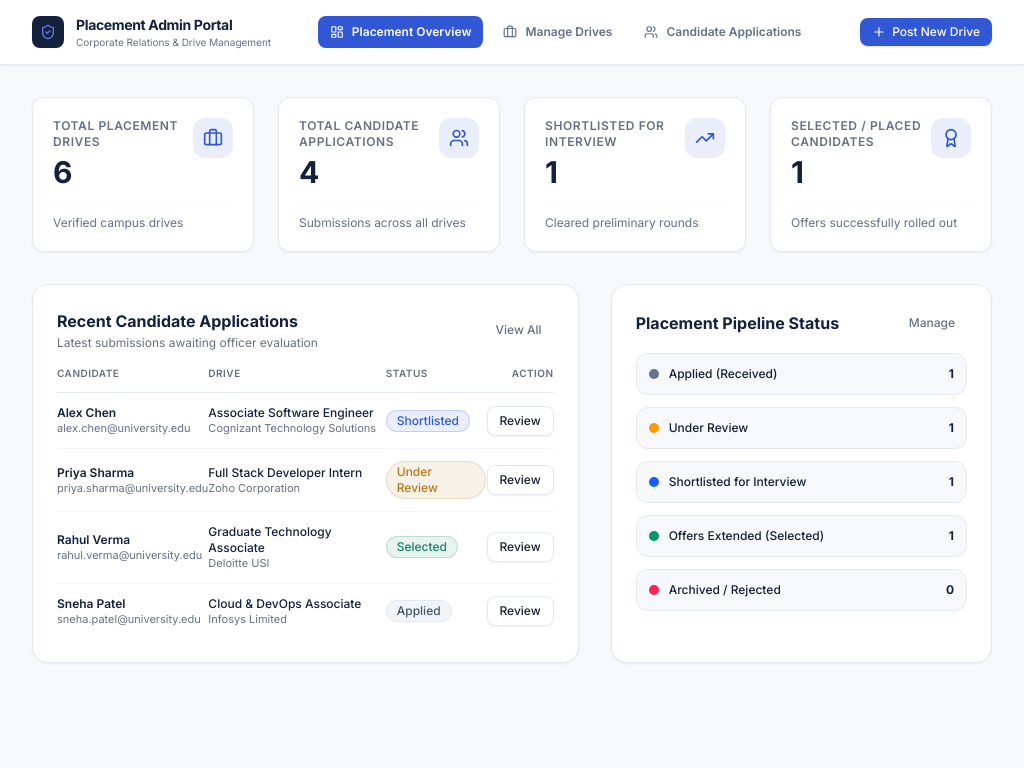
Test: Admin Dashboard Component Tests › switches to Manage Drives tab and renders placement drives table
The width and height of the screenshot is (1024, 768).
Click the button "Manage Drives": (558, 32) [492, 16, 624, 48]
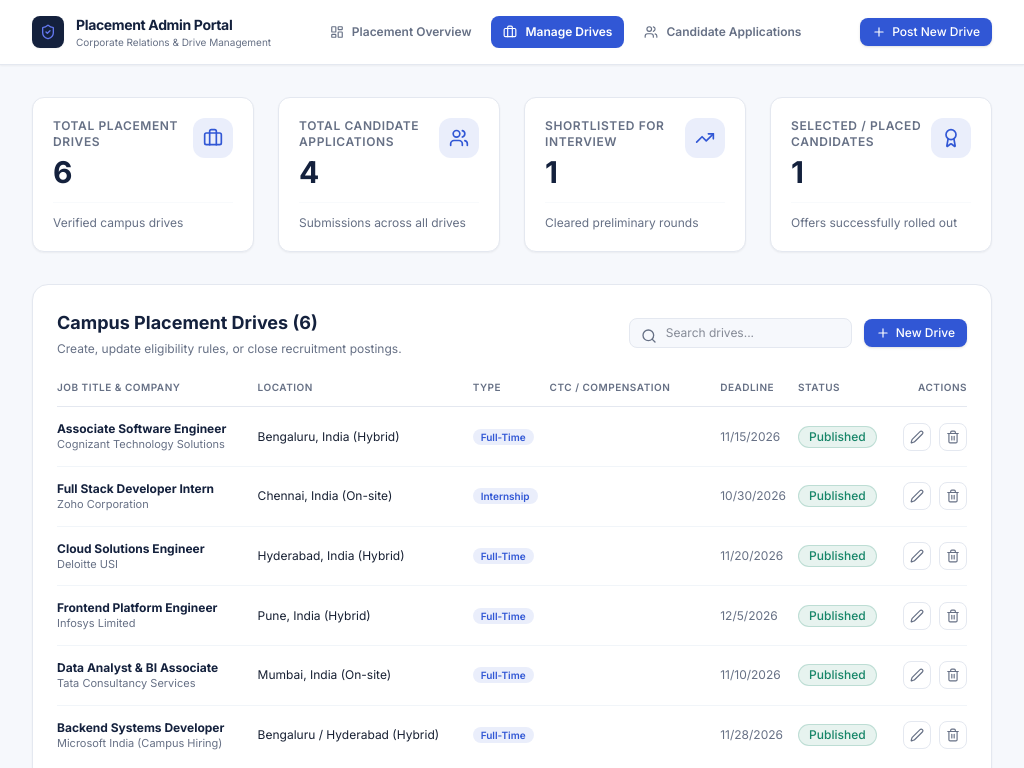
expect the text "Associate Software Engineer" is shown: met, box [57, 421, 226, 436]
expect the heading "Campus Placement Drives (6)" is shown: met, box [57, 312, 318, 333]
expect the field with placeholder "Search drives..." is shown: met, box [629, 318, 852, 348]
